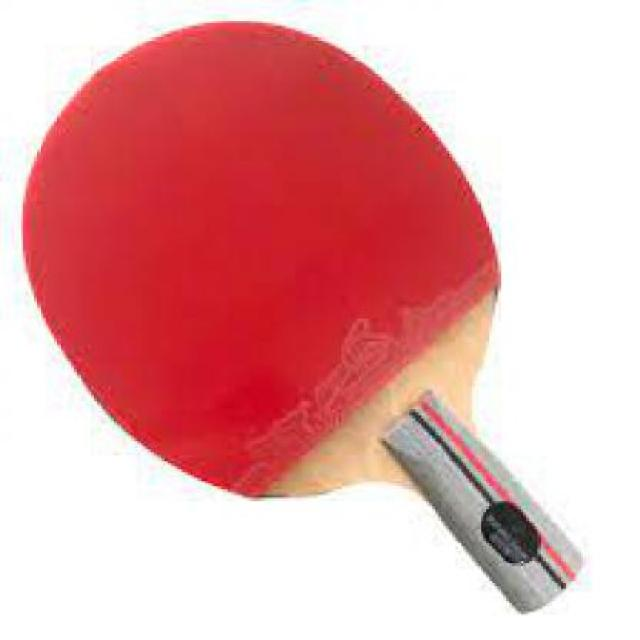table_tennis_racket: (21, 15, 508, 503)
